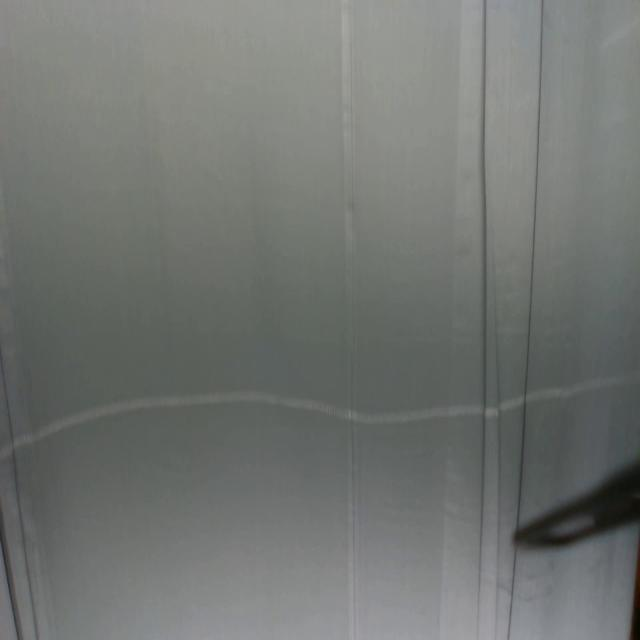crease: (518, 0, 545, 518), (342, 0, 361, 640), (0, 342, 39, 640), (474, 2, 489, 638), (507, 548, 519, 640)
